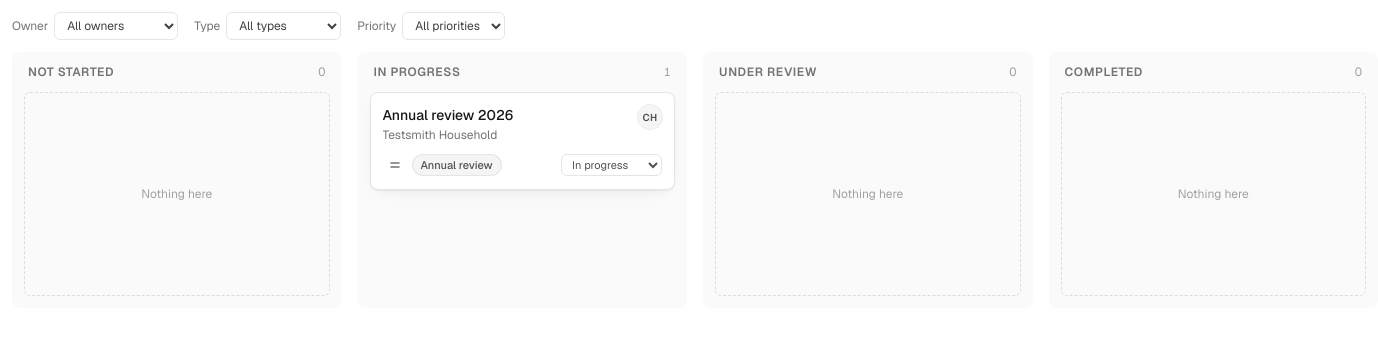
Test case: priority › Escape closes the menu without changing anything
Click the button named "Priority: ". click: [394, 165]
box: [382,153,406,177]
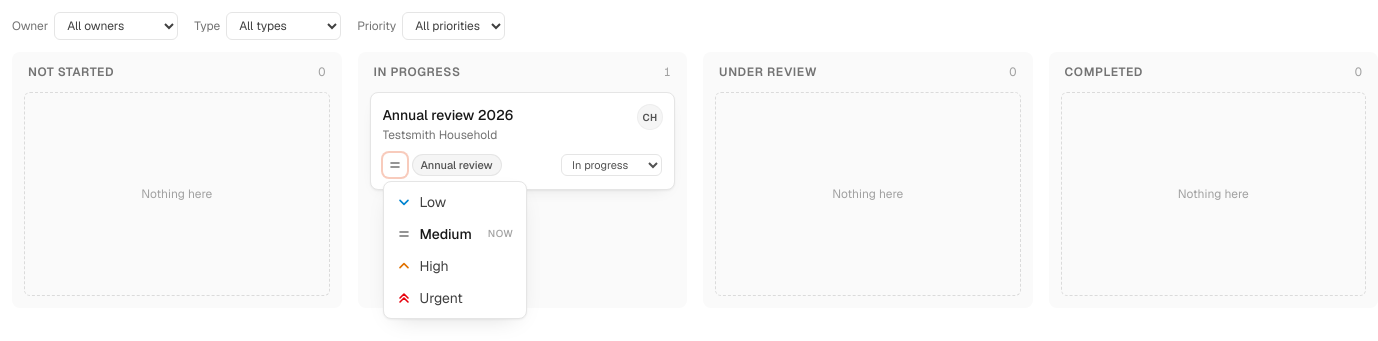
Expected: the menu is shown, [382,181,526,319]
Press Escape
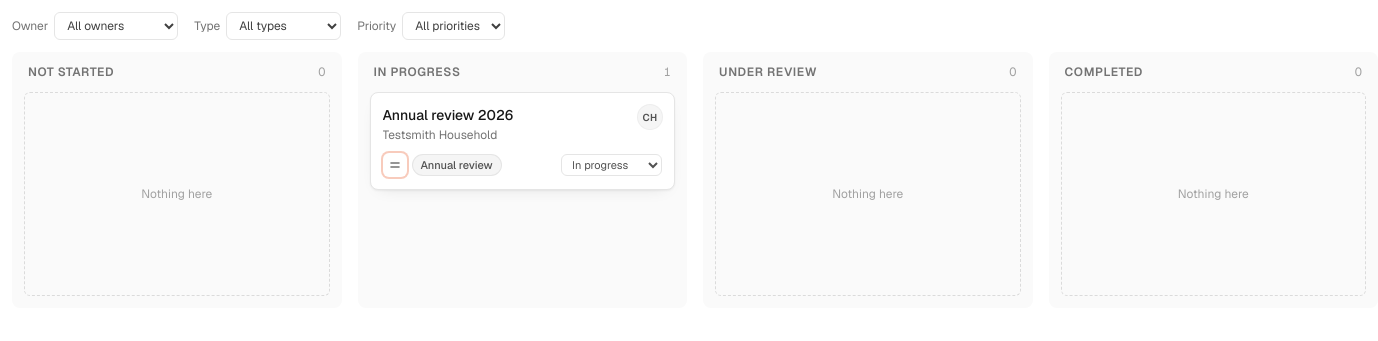
Expected: the menu is gone
